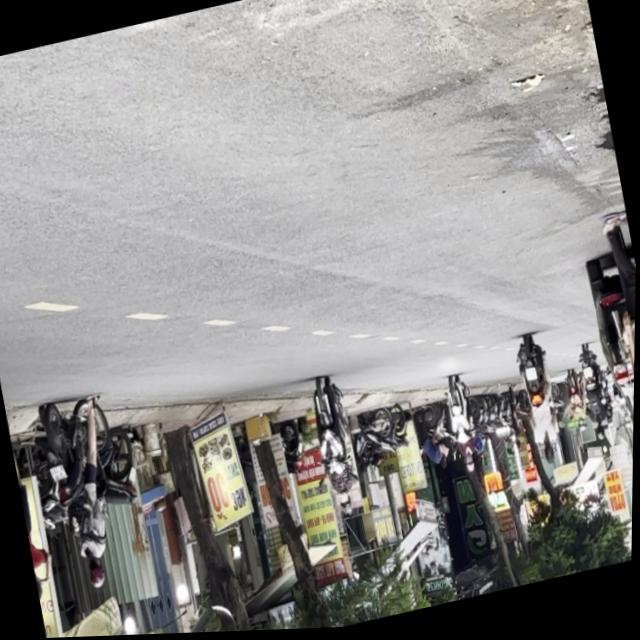helmet: (86, 557, 109, 592), (338, 494, 354, 519)
licenseplate: (33, 392, 141, 600), (303, 374, 370, 524)
nohelmet: (50, 467, 69, 485)
